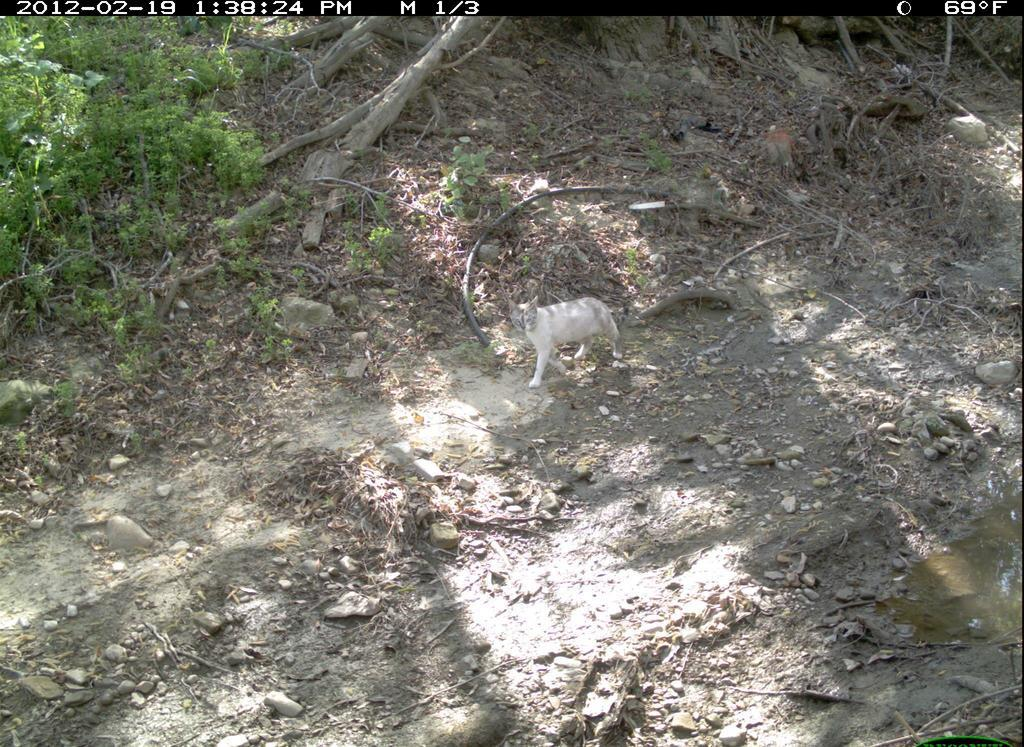cat: (493, 288, 634, 397)
